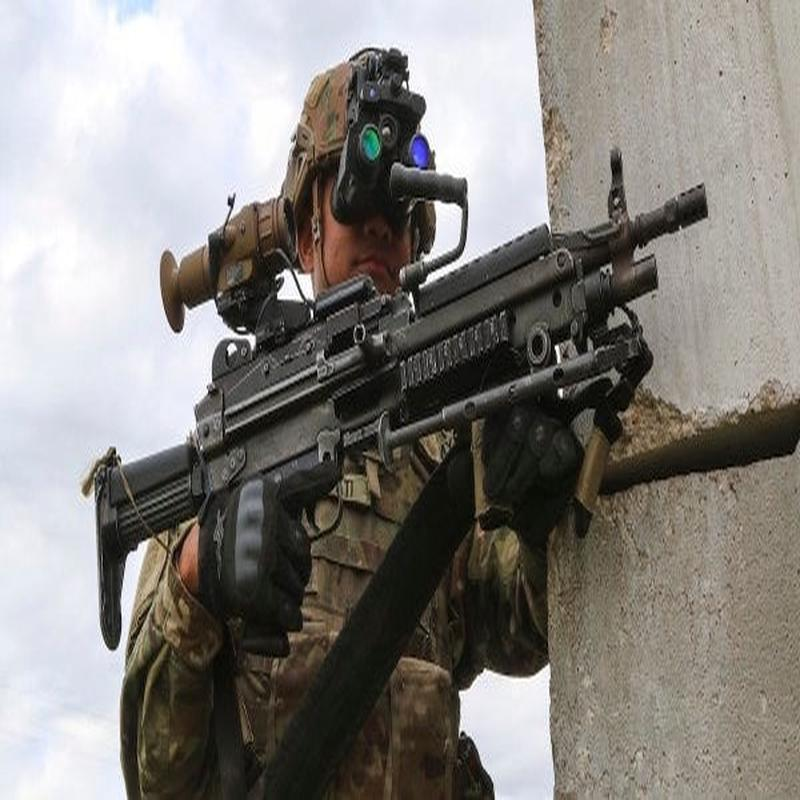GUN: (69, 137, 729, 657)
